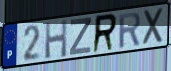2: (22, 24, 41, 63)
H: (44, 18, 69, 60)
R: (91, 12, 119, 55), (118, 11, 142, 50)
X: (143, 6, 166, 47)
Z: (68, 17, 92, 57)
